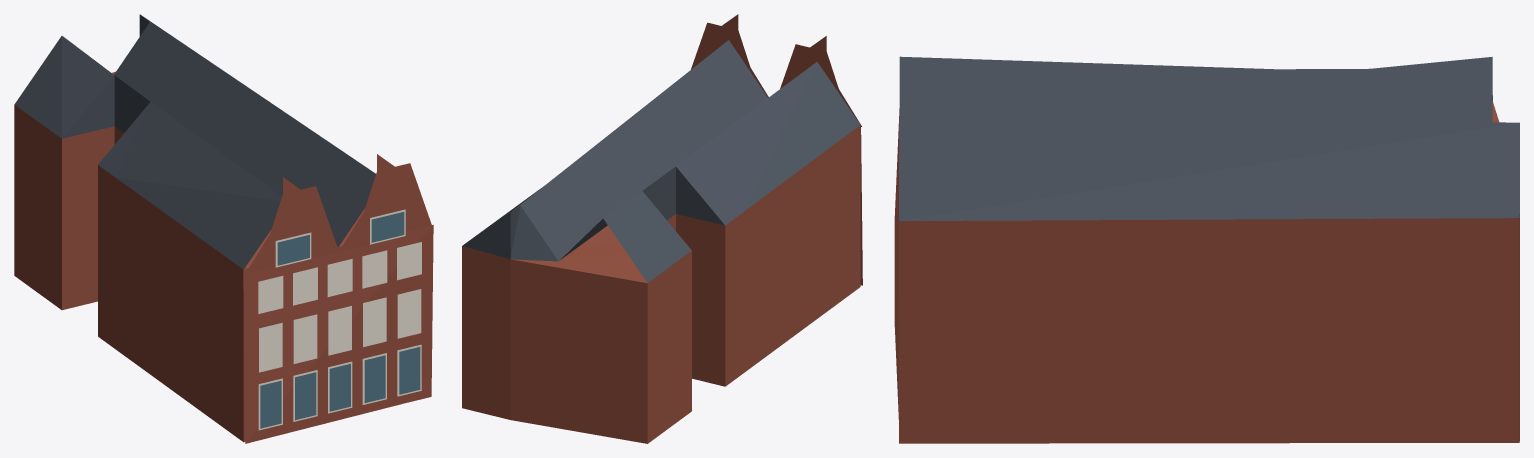
Rendered from de-dolphijn.lod2.glb.
The picture shows the model from 3 angles, left to right: view 1: azimuth 30°, elevation 25°; view 2: azimuth 150°, elevation 25°; view 3: azimuth 270°, elevation 25°; orthographic projection. The views are drawn at different scales.
Visible parts, largest first — view 1: lod2; view 2: lod2; view 3: lod2.
Part boxes in pixels (x1,y1,x2,y2): lod2: [14, 14, 433, 443]; lod2: [462, 14, 862, 443]; lod2: [894, 56, 1519, 443].
Bounding box in the file's own units: 14.28 × 18.57 × 31.63.
